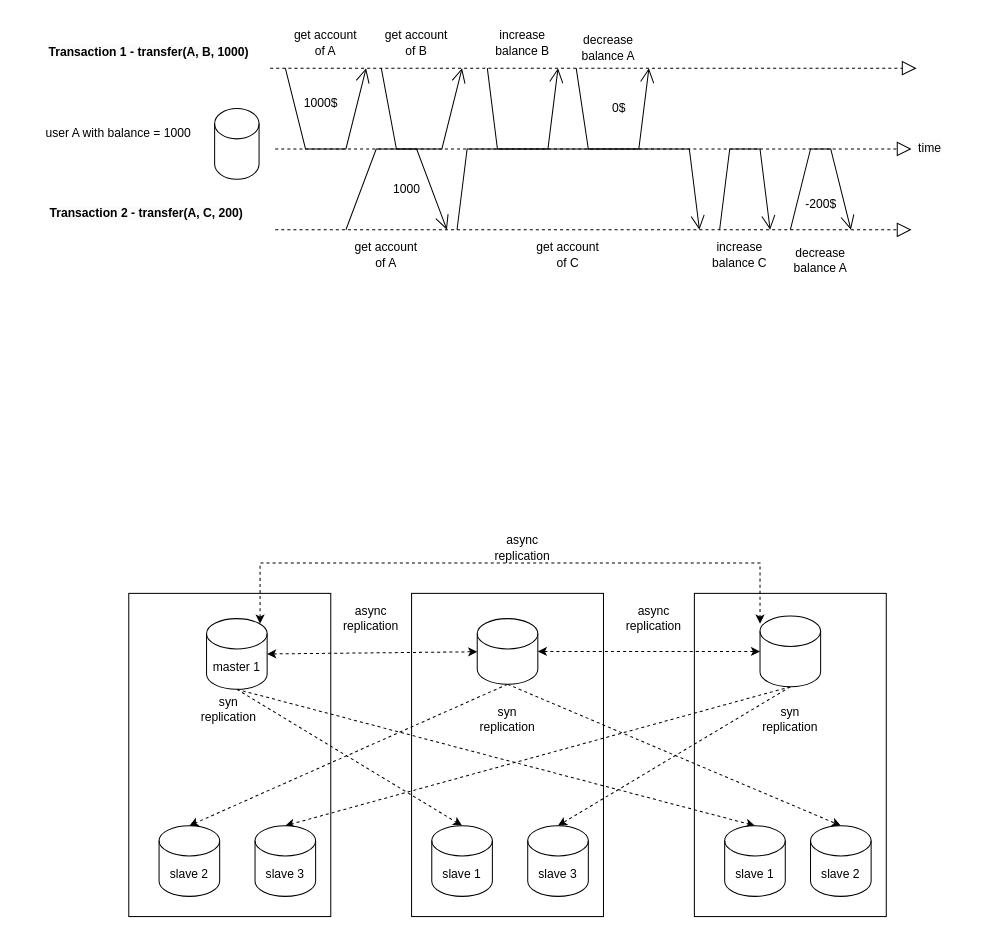
The diagram is 994 pixels wide and 934 high, and some of its shapes have lost their labels. The centre of each missing label's shape, as x and y in pixels:
"DB" belongs at (x=236, y=143).
"master 2" belongs at (x=507, y=651).
"master 3" belongs at (x=790, y=651).
